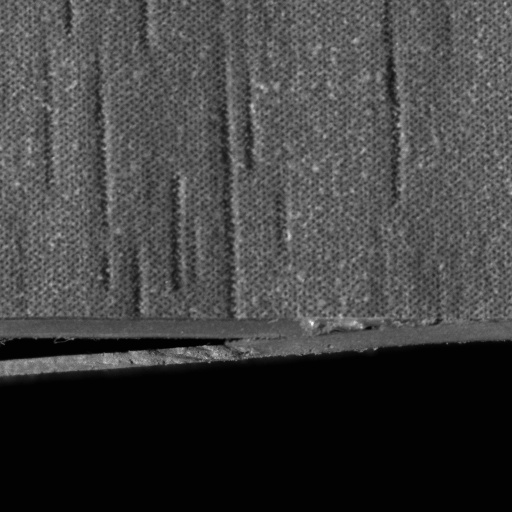kaijiao: (0, 314, 393, 380)
